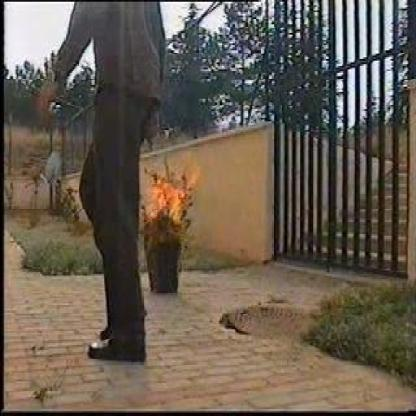foggia-v2-map80-epoch100 - v1 4323: (141, 161, 206, 227)
